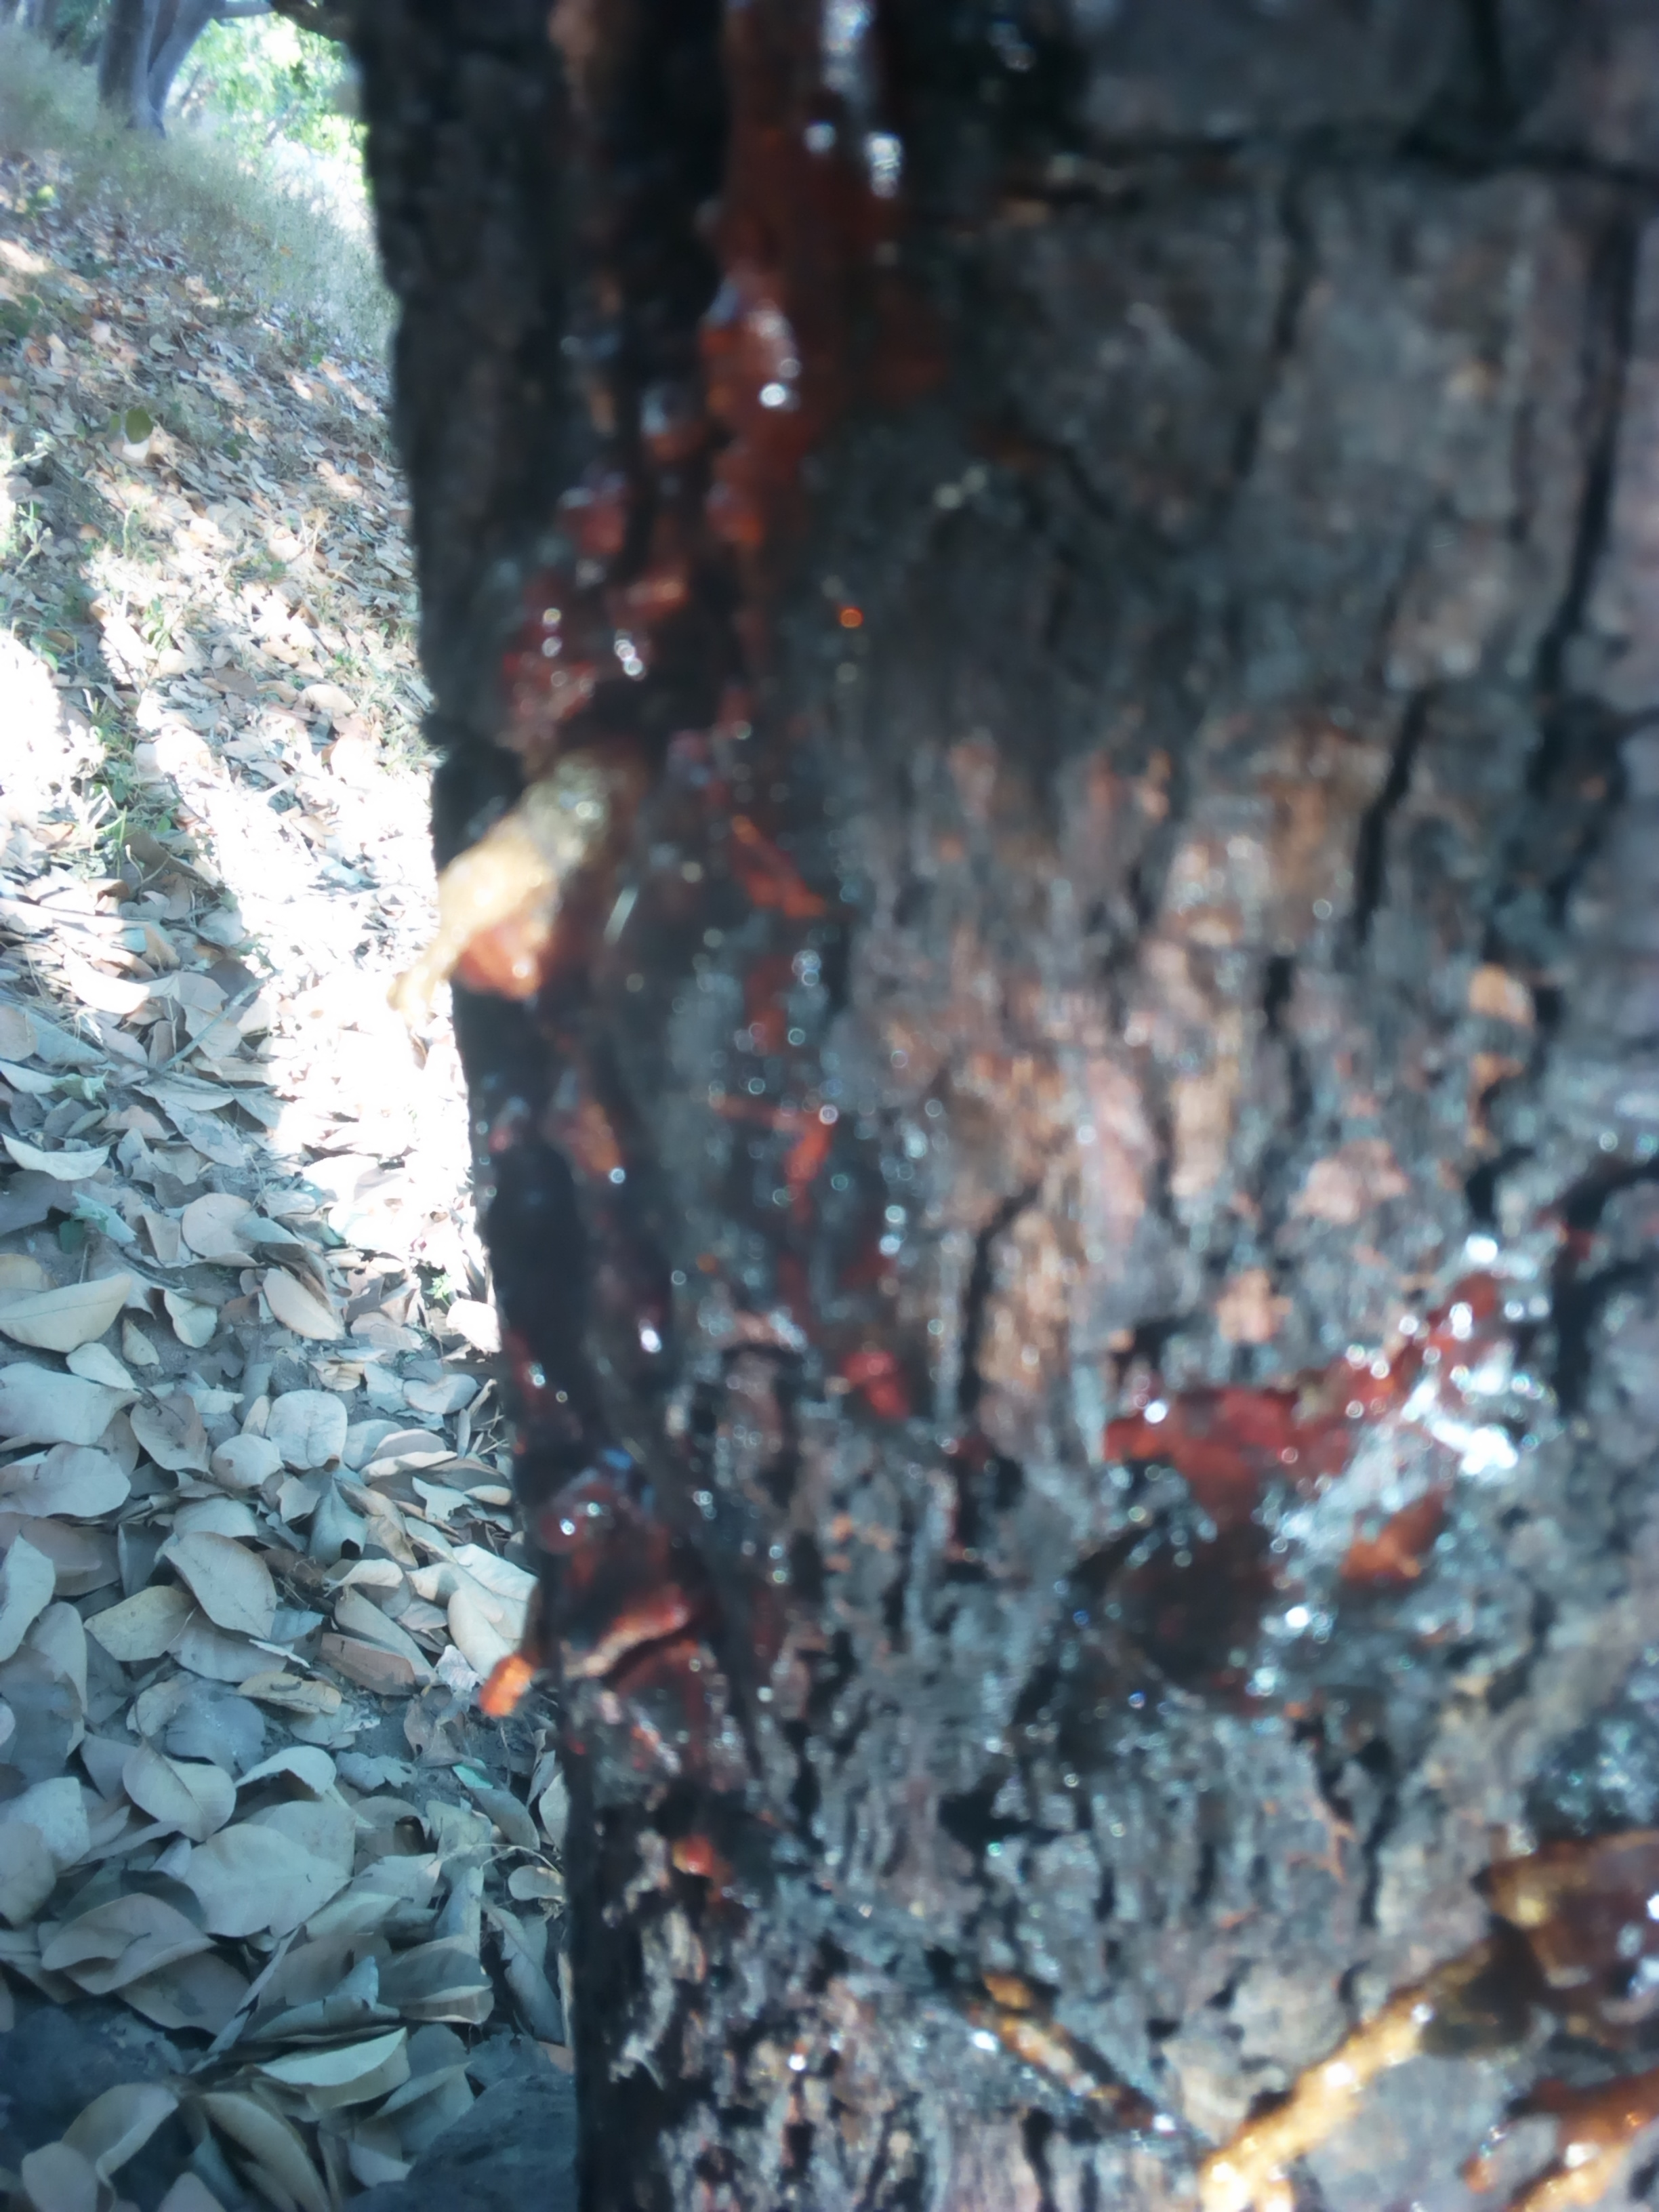Gommose: (500, 21, 1053, 2092), (1101, 392, 1659, 2020)
